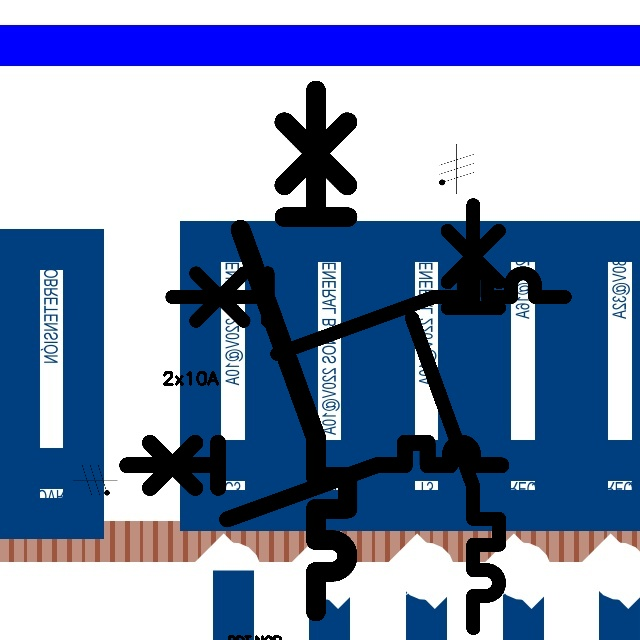interruptor_termomagnetico: (227, 77, 361, 625), (401, 194, 510, 639), (162, 263, 575, 364), (117, 433, 510, 529)
